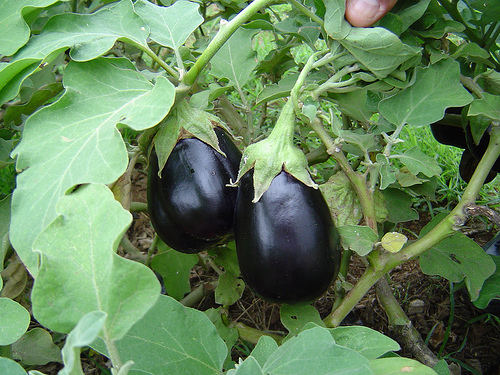eggplant: (141, 66, 253, 260), (230, 130, 348, 311)
